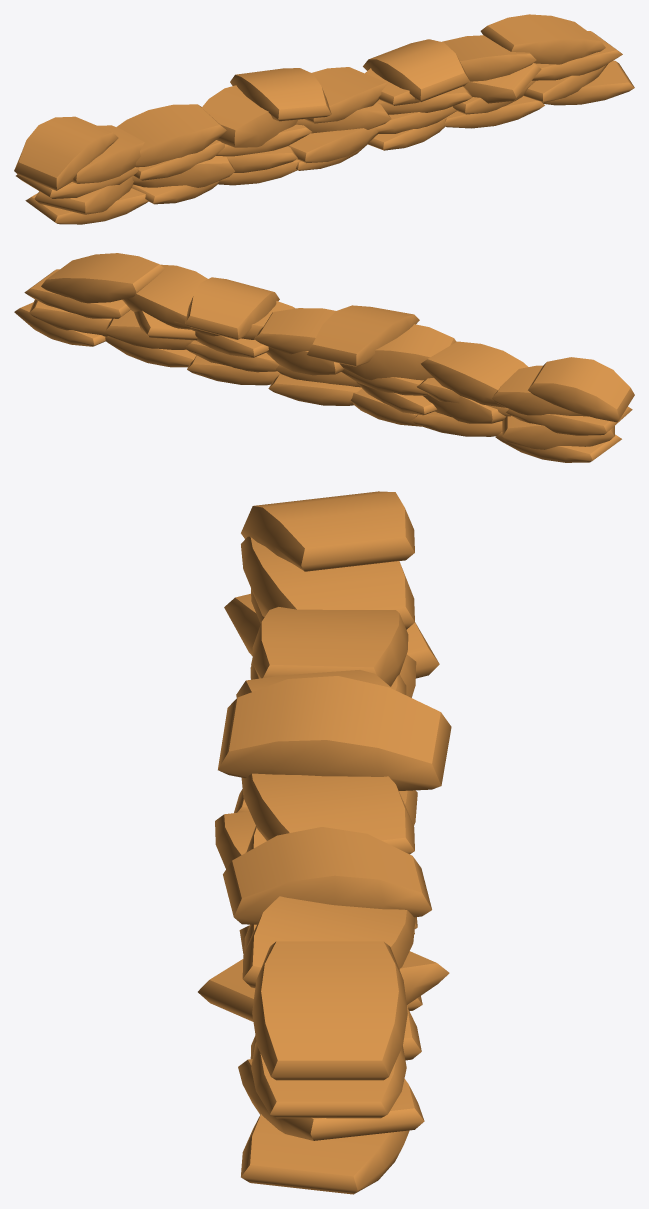
The model's file is SM_Sandbags(Exploded).fbx.
3 views of the same model, one above another, from view 1: azimuth 30°, elevation 25°; view 2: azimuth 150°, elevation 25°; view 3: azimuth 270°, elevation 25° (orthographic). The views are drawn at different scales.
Visible parts, largest first — view 1: sandbaggroup3, sandbaggroup1, sandbaggroup2, sandbaggroup4; view 2: sandbaggroup3, sandbaggroup1, sandbaggroup2, sandbaggroup4; view 3: sandbaggroup1, sandbaggroup3, sandbaggroup2, sandbaggroup4.
Boxes of the visible parts, x1,y1,x2,y2 form: sandbaggroup3: (116,68,331,204); sandbaggroup1: (442,14,634,128); sandbaggroup2: (288,39,472,170); sandbaggroup4: (14,116,148,224); sandbaggroup3: (307,305,527,436); sandbaggroup1: (14,253,207,367); sandbaggroup2: (174,277,361,405); sandbaggroup4: (491,357,634,462); sandbaggroup1: (198,896,449,1194); sandbaggroup3: (218,607,451,812); sandbaggroup2: (215,773,431,1011); sandbaggroup4: (224,491,439,678).
Size of the model in its own units: 321 by 42.62 by 58.31.
